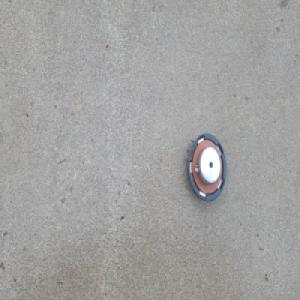FuelCap: (185, 129, 227, 203)
